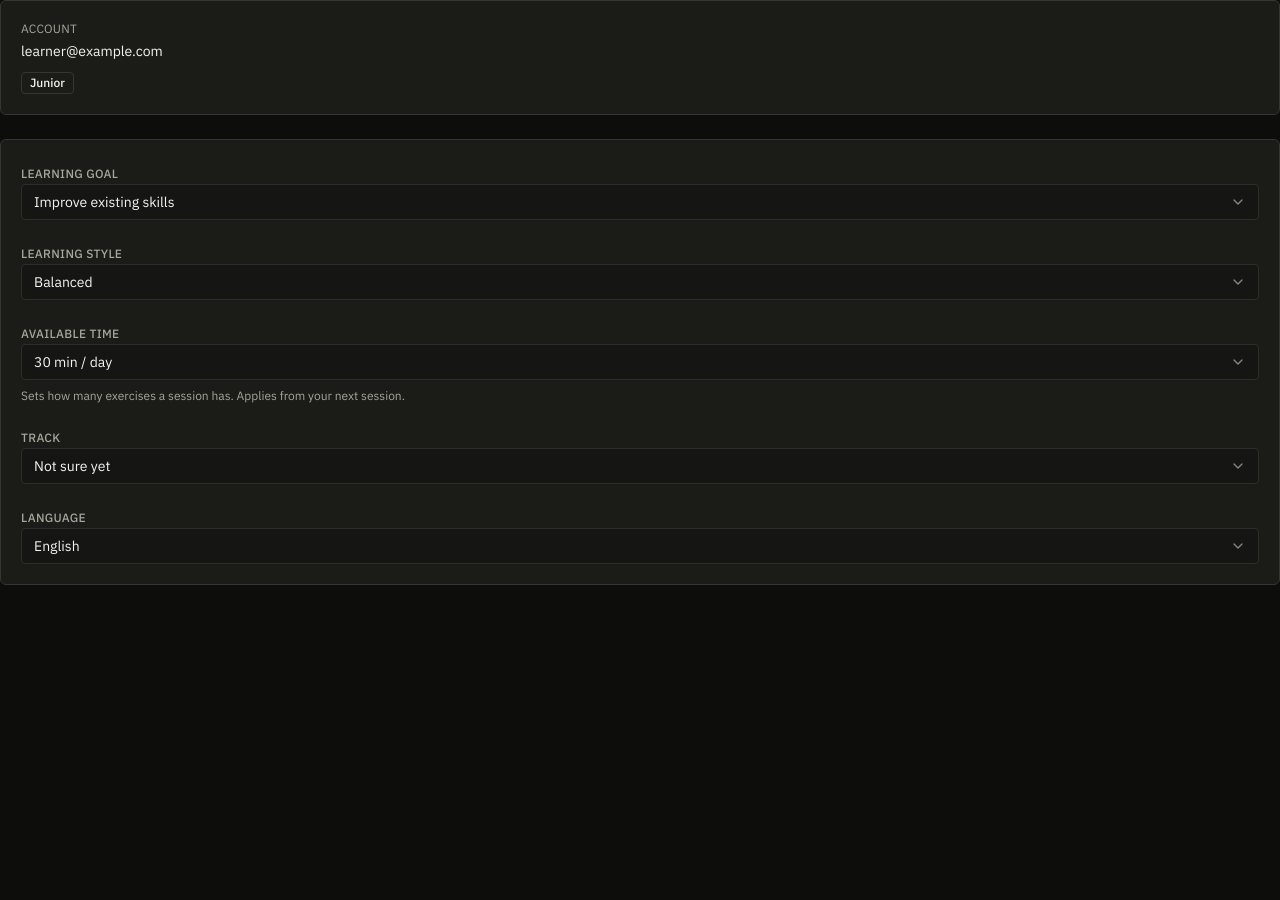
Test: SettingsForm › puts the select back and says so when saving fails, instead of showing an unsaved value
This screenshot has width=1280, height=900.
Click the dropdown labelled "Improve existing skills".
click(104, 202)  # box top-left (21, 184), bottom-right (1259, 220)
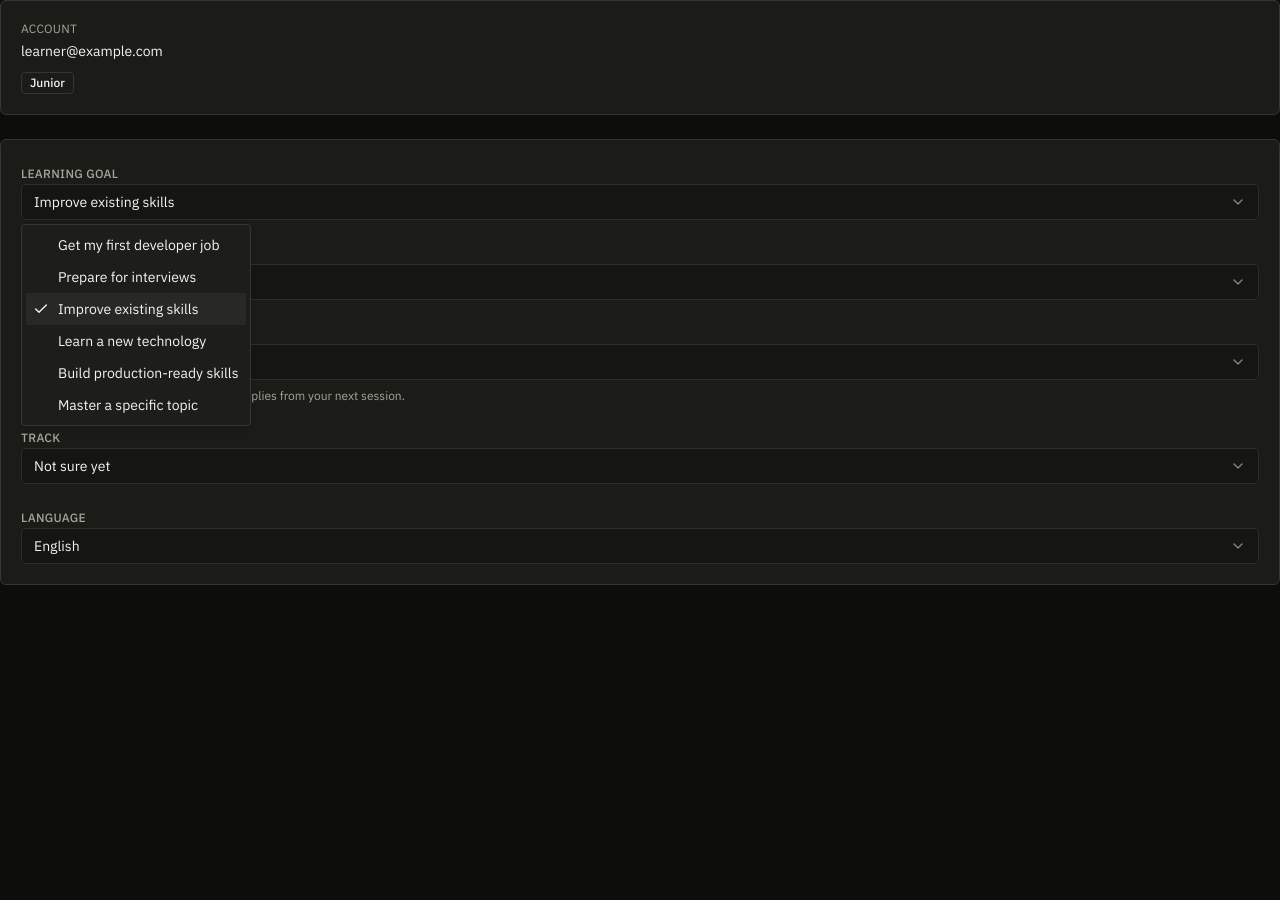
Click the option "Prepare for interviews".
click(127, 277)  # box top-left (58, 268), bottom-right (196, 286)
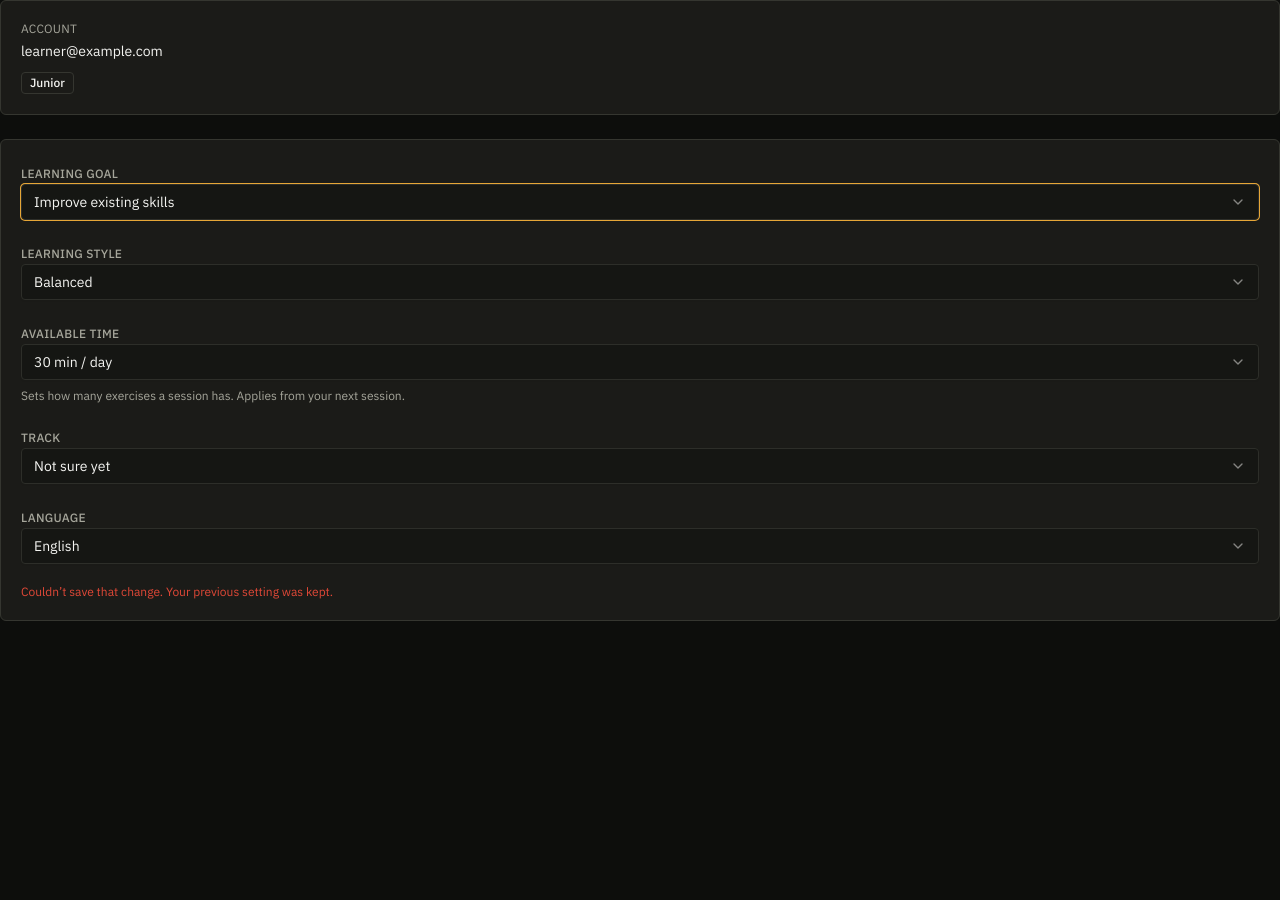
expect the dropdown labelled "Improve existing skills" is shown: met, box top-left (21, 184), bottom-right (1259, 220)
expect the message reads "Couldn’t save that change. Your previous setting was kept.": met, box top-left (21, 584), bottom-right (333, 599)
expect the list is gone: met
